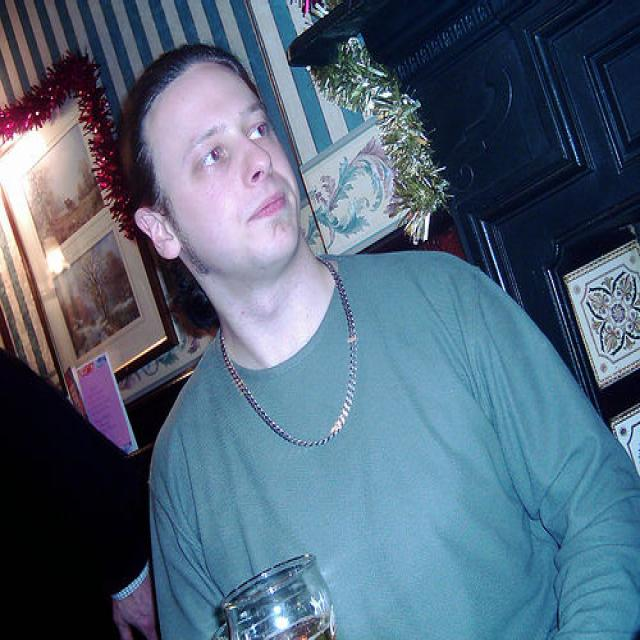person: (119, 45, 640, 640)
